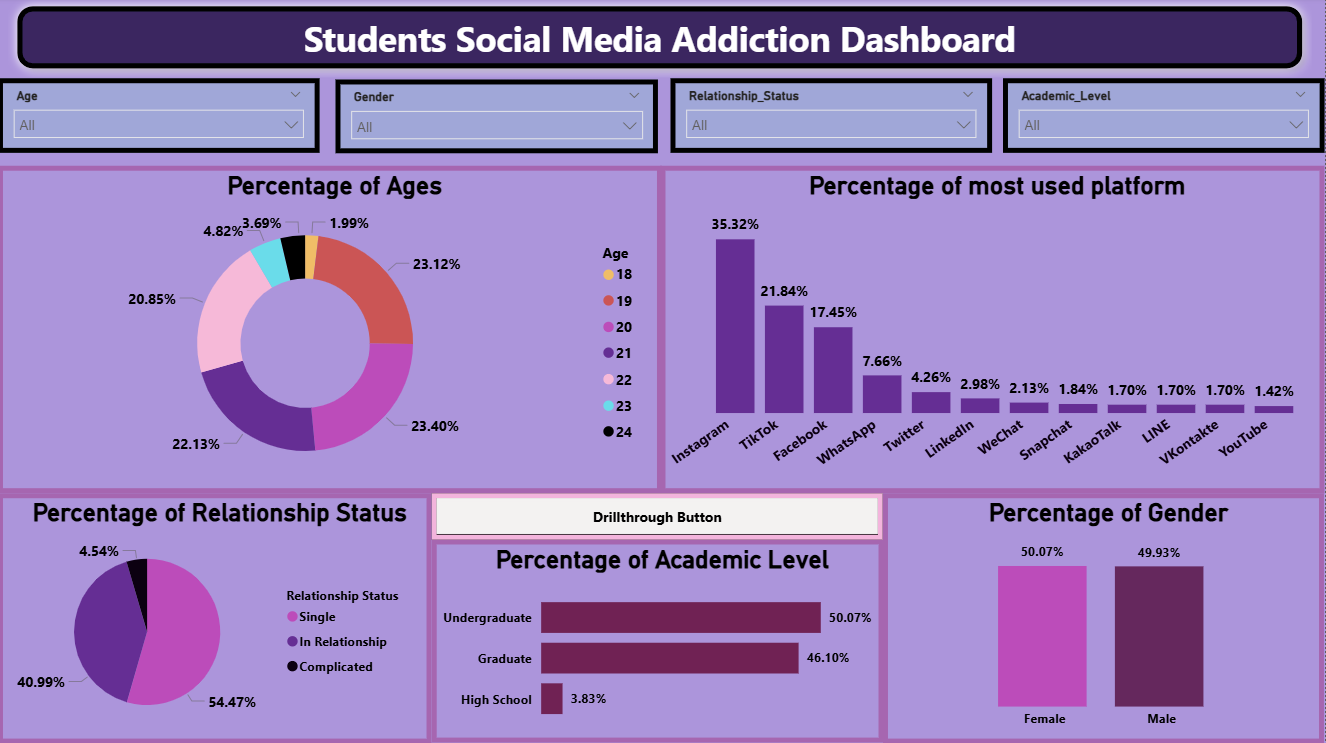

The page's visual inventory and layout, read from the dashboard file:
{"tool":"powerbi","page":{"name":"Main Dashboard","canvas":[1280,720],"ordinal":0},"visuals":[{"type":"pieChart","title":"Percentage of Relationship Status","fields":{"Category":["Students Social Media Addiction.Relationship_Status"],"Y":["Students Social Media Addiction.Relationship status %"]},"box":[0,479,418.6,241.3],"z":0},{"type":"clusteredColumnChart","title":"Percentage of Gender","fields":{"Category":["Students Social Media Addiction.Gender"],"Y":["Students Social Media Addiction.Gender %"]},"box":[854.2,479,425.9,241.3],"z":1000},{"type":"donutChart","title":"Percentage of Ages","fields":{"Category":["Students Social Media Addiction.Age"],"Y":["Students Social Media Addiction.AgeGroup %"]},"box":[0,162.9,640.6,316.1],"z":2000},{"type":"clusteredColumnChart","title":"Percentage of most used platform","fields":{"Category":["Students Social Media Addiction.Most_Used_Platform"],"Y":["Students Social Media Addiction.Most popular platform %"]},"box":[639.4,162.9,640.6,316.1],"z":3000},{"type":"shape","box":[10.1,0,1258.1,77.9],"z":4000},{"type":"clusteredBarChart","title":"Percentage of Academic Level","fields":{"Category":["Students Social Media Addiction.Academic_Level"],"Y":["Students Social Media Addiction.Academic Level %"]},"box":[418.4,523.7,435.7,196.2],"z":5000},{"type":"slicer","title":"Average daily hours of social media usage","fields":{"Values":["Students Social Media Addiction.Age"]},"box":[0,77.9,310.2,72.1],"z":6000},{"type":"slicer","title":"Average daily hours of social media usage","fields":{"Values":["Students Social Media Addiction.Gender"]},"box":[325.7,79.6,311.3,71.2],"z":7000},{"type":"slicer","title":"Average daily hours of social media usage","fields":{"Values":["Students Social Media Addiction.Relationship_Status"]},"box":[649.2,77.9,310.2,72.1],"z":8000},{"type":"slicer","title":"Average daily hours of social media usage","fields":{"Values":["Students Social Media Addiction.Academic_Level"]},"box":[969.5,77.9,310.2,72.1],"z":9000},{"type":"actionButton","box":[418.6,479,435.5,44.6],"z":10000}]}

Visuals, with their boxes in screenshot pixels (x1, y1, x2, y2), scaled from the page's 1280x720 canvas onto the 1326x743 screenshot:
"Percentage of Relationship Status" pieChart: region(0, 494, 434, 742)
"Percentage of Gender" clusteredColumnChart: region(885, 494, 1325, 742)
"Percentage of Ages" donutChart: region(0, 168, 664, 494)
"Percentage of most used platform" clusteredColumnChart: region(662, 168, 1325, 494)
shape: region(10, 0, 1314, 80)
"Percentage of Academic Level" clusteredBarChart: region(433, 540, 885, 742)
"Average daily hours of social media usage" slicer: region(0, 80, 321, 155)
"Average daily hours of social media usage" slicer: region(337, 82, 660, 156)
"Average daily hours of social media usage" slicer: region(673, 80, 994, 155)
"Average daily hours of social media usage" slicer: region(1004, 80, 1325, 155)
actionButton: region(434, 494, 885, 540)
